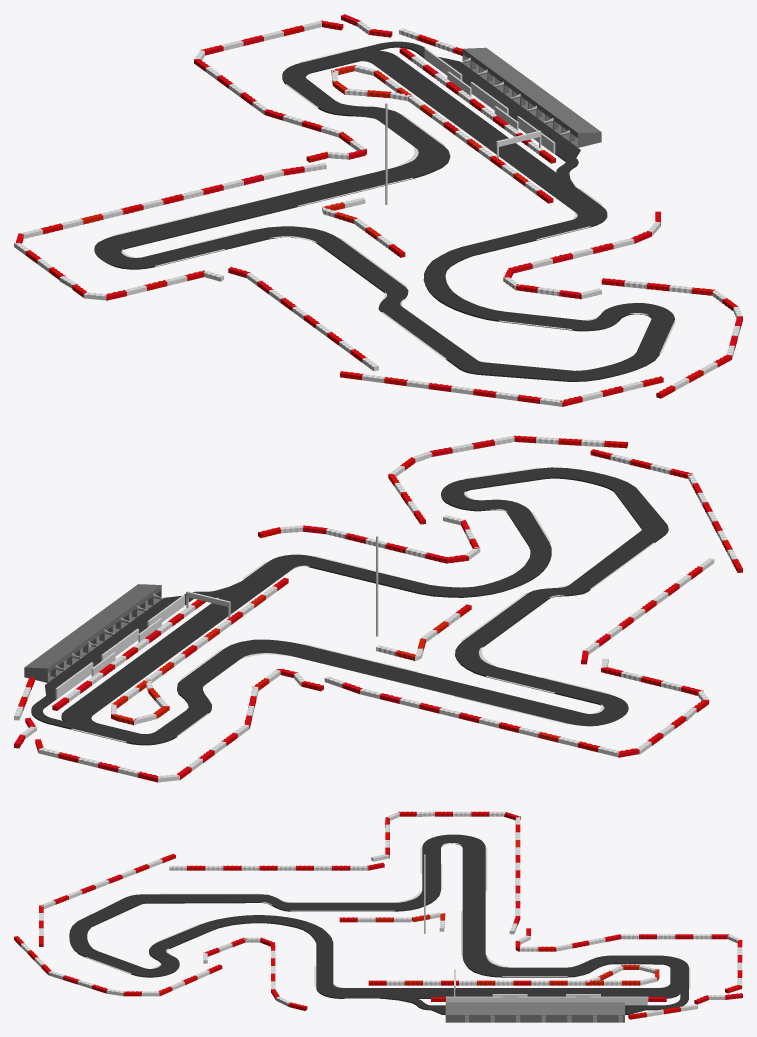
Rendered from Tor bez trawy.fbx.
3 renders of one model, top to bottom at view 1: azimuth 30°, elevation 25°; view 2: azimuth 150°, elevation 25°; view 3: azimuth 270°, elevation 25°, orthographic. The views are drawn at different scales.
Parts seen in each view (by area): view 1: track, Pitlane, Pit 7; view 2: track, Pitlane, Pit 1; view 3: track, Pitlane, Pit 2, Pit 4, Pit 7, Pit 1, Pit 3, Pit 5, Pit 6, Cube.116, Cube.115, Cube.117.
Part boxes in pixels (<box>): track: <box>94,50,674,381</box>; Pitlane: <box>346,41,580,185</box>; Pit 7: <box>561,120,601,147</box>; track: <box>61,467,668,745</box>; Pitlane: <box>31,582,239,732</box>; Pit 1: <box>24,655,63,682</box>; track: <box>69,834,688,998</box>; Pitlane: <box>384,985,688,1014</box>; Pit 2: <box>573,1002,599,1022</box>; Pit 4: <box>522,1002,548,1022</box>; Pit 7: <box>445,1002,471,1022</box>; Pit 1: <box>599,1002,624,1022</box>; Pit 3: <box>548,1002,573,1022</box>; Pit 5: <box>497,1002,522,1022</box>; Pit 6: <box>471,1002,496,1022</box>; Cube.116: <box>590,996,647,1005</box>; Cube.115: <box>518,996,575,1002</box>; Cube.117: <box>446,996,502,1002</box>.
Size of the model in its own units: 171 by 31.46 by 253.
